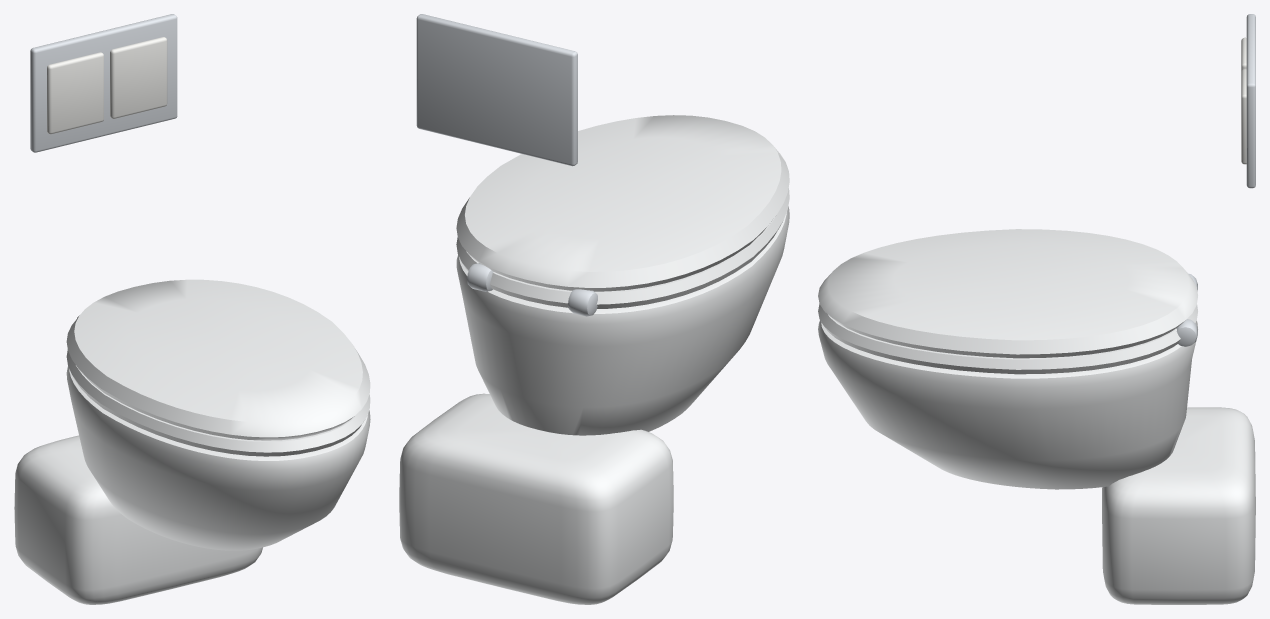
Rendered from vaso_suspenso_branco.glb.
The picture shows the model from 3 angles, left to right: view 1: azimuth 30°, elevation 25°; view 2: azimuth 150°, elevation 25°; view 3: azimuth 270°, elevation 25°; orthographic projection. The views are drawn at different scales.
Visible parts, largest first — view 1: vaso_suspenso_branco, tampa, assento; view 2: vaso_suspenso_branco, tampa, assento; view 3: vaso_suspenso_branco, tampa, assento.
Part boxes in pixels (<box>): vaso_suspenso_branco: <box>14,14,370,604</box>; tampa: <box>66,279,370,440</box>; assento: <box>66,349,370,456</box>; vaso_suspenso_branco: <box>399,14,789,604</box>; tampa: <box>456,115,789,291</box>; assento: <box>456,188,789,308</box>; vaso_suspenso_branco: <box>818,14,1255,604</box>; tampa: <box>818,229,1197,358</box>; assento: <box>818,304,1197,374</box>.
Size of the model in its own units: 0.36 by 0.745 by 0.5685.
Materials: 1 (1 with a texture image).
